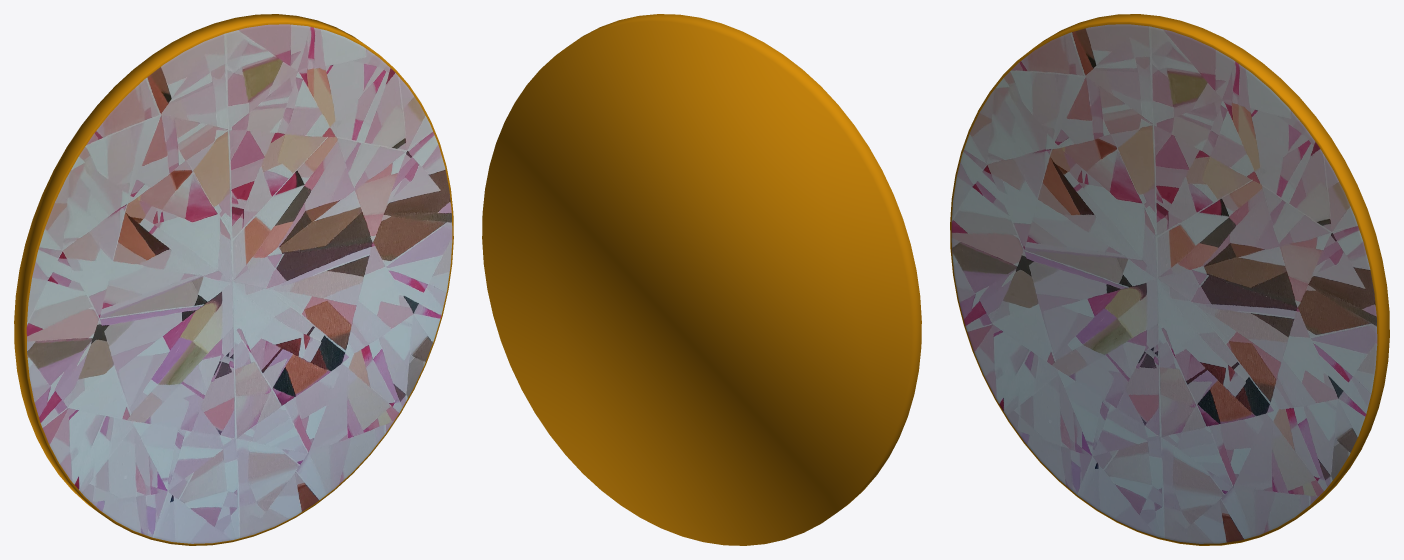
File: hedy.glb
The picture shows the model from 3 angles, left to right: view 1: azimuth 30°, elevation 25°; view 2: azimuth 150°, elevation 25°; view 3: azimuth 330°, elevation 25°; orthographic projection.
Visible parts, largest first — view 1: hedy; view 2: hedy; view 3: hedy.
Part boxes in pixels (bbox=[...]): hedy: bbox=[14, 14, 453, 545]; hedy: bbox=[482, 14, 921, 545]; hedy: bbox=[950, 14, 1389, 545].
Bounding box in the file's own units: 0.7 × 0.8 × 0.03.
2 materials, 1 textured.
